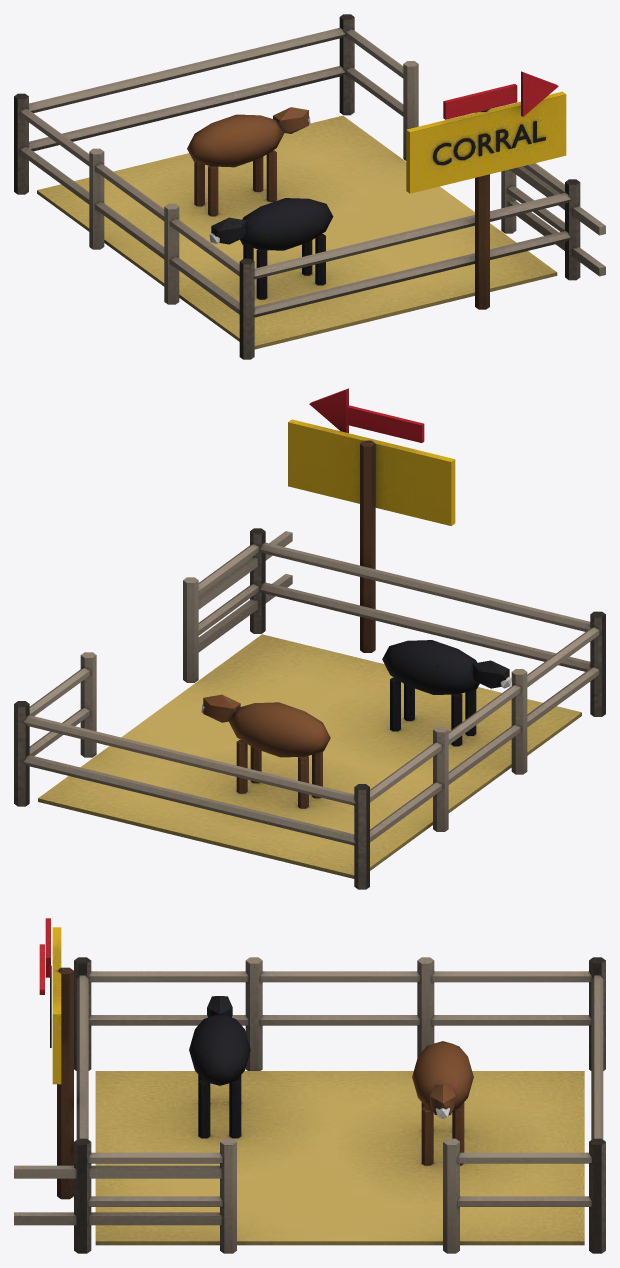
Rendered from corral_izq.glb.
The picture shows the model from 3 angles, top to bottom: view 1: azimuth 30°, elevation 25°; view 2: azimuth 150°, elevation 25°; view 3: azimuth 270°, elevation 25°; orthographic projection. The views are drawn at different scales.
Visible parts, largest first — view 1: corral_izq; view 2: corral_izq; view 3: corral_izq.
Boxes of the visible parts, x1,y1,x2,y2 form: corral_izq: (14,14,605,359); corral_izq: (14,388,605,889); corral_izq: (14,918,605,1253).
Bounding box in the file's own units: 5.17 × 3.45 × 6.9.
Materials: 1 (1 with a texture image).
